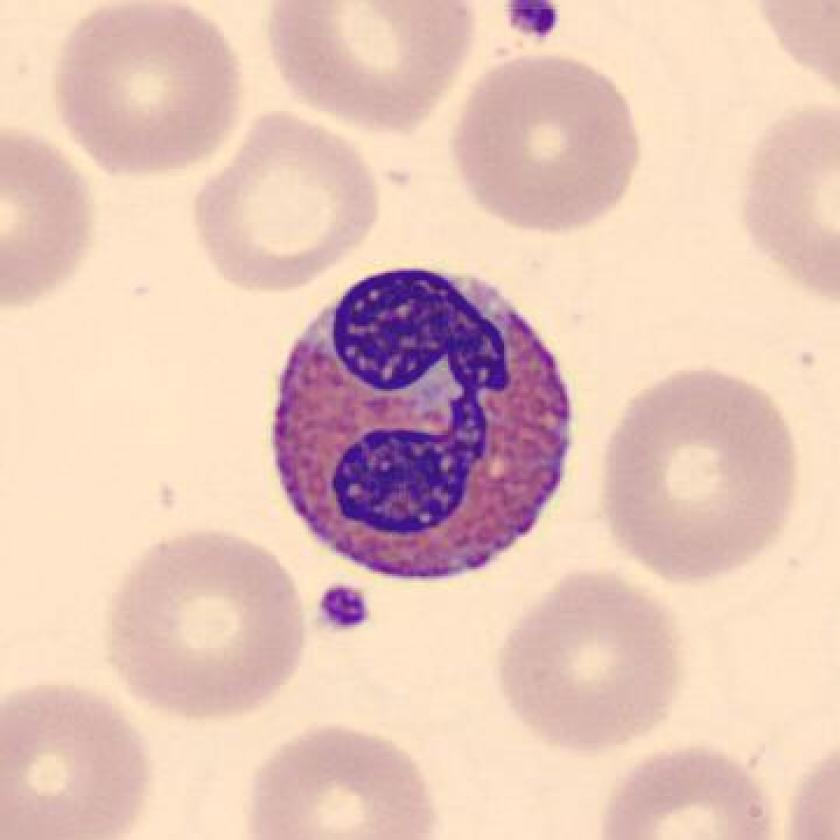eosinophil: (262, 251, 587, 616)
